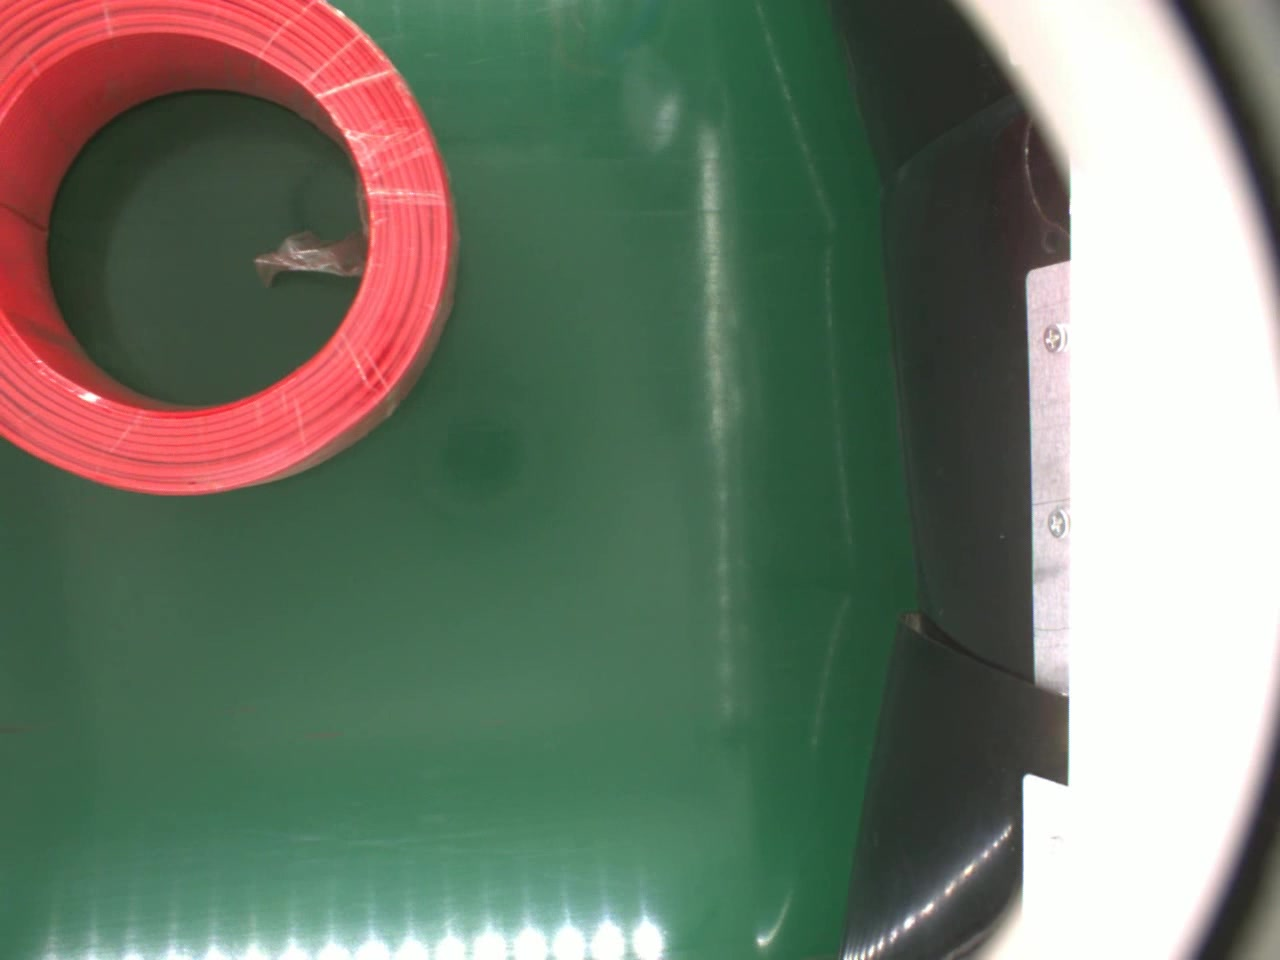red: (0, 0, 457, 501)
